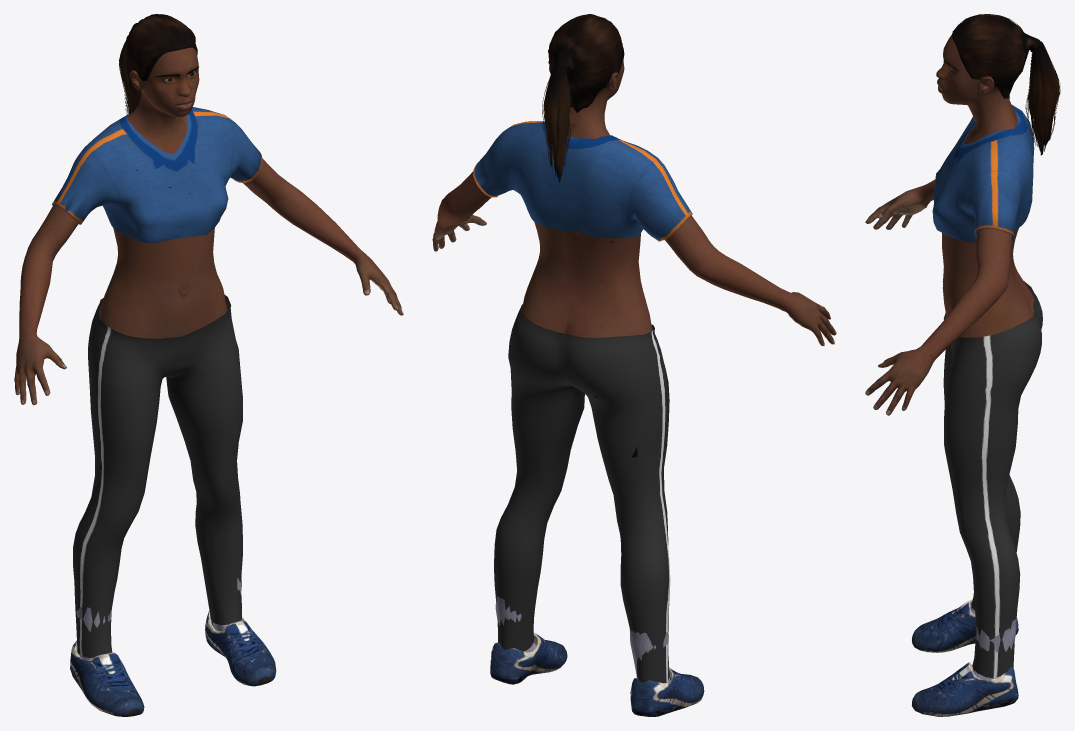
File: f_sportive.glb
3 views of the same model, side by side, from view 1: azimuth 30°, elevation 25°; view 2: azimuth 150°, elevation 25°; view 3: azimuth 270°, elevation 25° (orthographic). The views are drawn at different scales.
Parts seen in each view (by area): view 1: Human; view 2: Human; view 3: Human.
Part boxes in pixels (box(x1,y1,x2,y2)): Human: box(14, 14, 403, 716); Human: box(432, 14, 836, 716); Human: box(865, 14, 1060, 716).
Bounding box in the file's own units: 1.02 × 1.68 × 0.4496.
Materials: 1 (1 with a texture image).
